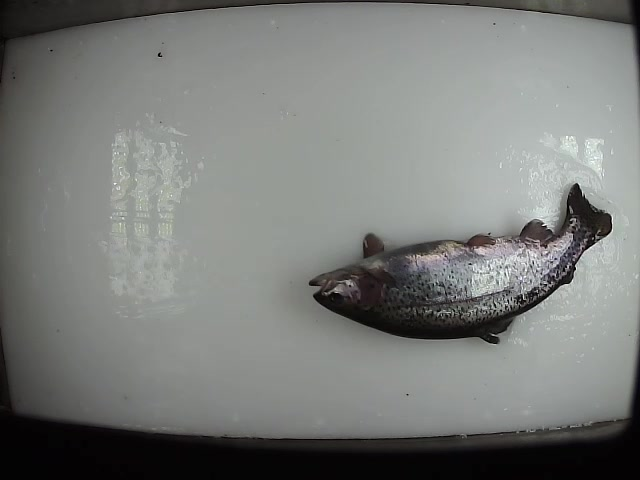fish: (308, 180, 615, 344)
